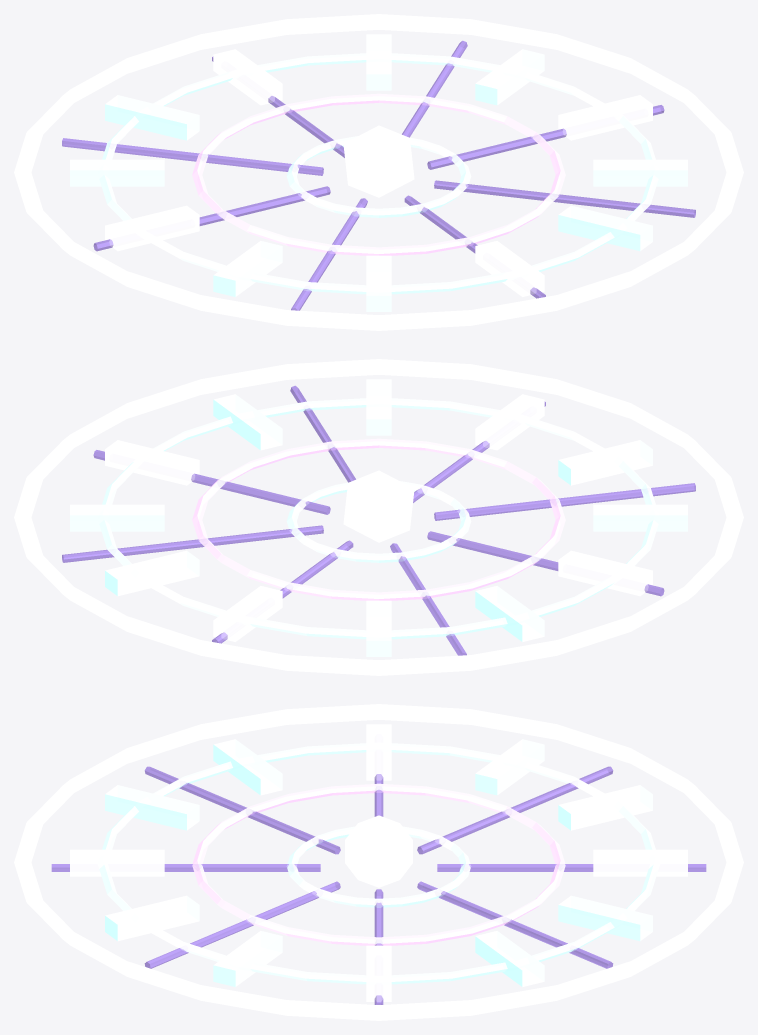
Rendered from ground_aoe.glb.
3 renders of one model, top to bottom at view 1: azimuth 30°, elevation 25°; view 2: azimuth 150°, elevation 25°; view 3: azimuth 270°, elevation 25°, orthographic.
Parts seen in each view (by area): view 1: GroundWarningRing_3, GroundWarningRing_2, GroundWarningRing_1, GroundFocus, GroundWarningRing_0, GroundRune_5, GroundRune_11, GroundRune_4, GroundRune_0, GroundRune_10, GroundRune_6, GroundRadial_3 (+13 smaller); view 2: GroundWarningRing_3, GroundWarningRing_2, GroundWarningRing_1, GroundFocus, GroundWarningRing_0, GroundRune_1, GroundRune_7, GroundRune_8, GroundRune_0, GroundRune_2, GroundRune_6, GroundRadial_5 (+13 smaller); view 3: GroundWarningRing_3, GroundWarningRing_2, GroundWarningRing_1, GroundFocus, GroundWarningRing_0, GroundRune_3, GroundRune_9, GroundRune_4, GroundRune_8, GroundRune_2, GroundRune_10, GroundRune_5 (+12 smaller).
Boxes of the visible parts, x1=… form: GroundWarningRing_3: x1=14, y1=14, x2=743, y2=330; GroundWarningRing_2: x1=99, y1=53, x2=658, y2=294; GroundWarningRing_1: x1=192, y1=93, x2=565, y2=255; GroundFocus: x1=343, y1=125, x2=414, y2=197; GroundWarningRing_0: x1=286, y1=136, x2=471, y2=217; GroundRune_5: x1=70, y1=159, x2=164, y2=186; GroundRune_11: x1=593, y1=159, x2=687, y2=186; GroundRune_4: x1=105, y1=95, x2=199, y2=140; GroundRune_0: x1=558, y1=95, x2=652, y2=140; GroundRune_10: x1=558, y1=205, x2=652, y2=251; GroundRune_6: x1=105, y1=205, x2=199, y2=251; GroundRadial_3: x1=62, y1=138, x2=323, y2=175; GroundWarningRing_3: x1=14, y1=359, x2=743, y2=675; GroundWarningRing_2: x1=99, y1=398, x2=658, y2=639; GroundWarningRing_1: x1=192, y1=438, x2=565, y2=600; GroundFocus: x1=343, y1=470, x2=414, y2=542; GroundWarningRing_0: x1=286, y1=481, x2=471, y2=562; GroundRune_1: x1=70, y1=504, x2=164, y2=531; GroundRune_7: x1=593, y1=504, x2=687, y2=531; GroundRune_8: x1=558, y1=440, x2=652, y2=485; GroundRune_0: x1=105, y1=440, x2=199, y2=485; GroundRune_2: x1=105, y1=550, x2=199, y2=596; GroundRune_6: x1=558, y1=550, x2=652, y2=596; GroundRadial_5: x1=434, y1=483, x2=695, y2=520; GroundWarningRing_3: x1=14, y1=704, x2=743, y2=1020; GroundWarningRing_2: x1=99, y1=743, x2=658, y2=984; GroundWarningRing_1: x1=192, y1=783, x2=565, y2=945; GroundFocus: x1=345, y1=815, x2=412, y2=887; GroundWarningRing_0: x1=287, y1=826, x2=470, y2=907; GroundRune_3: x1=593, y1=849, x2=687, y2=876; GroundRune_9: x1=70, y1=849, x2=164, y2=876; GroundRune_4: x1=558, y1=785, x2=652, y2=830; GroundRune_8: x1=105, y1=785, x2=199, y2=830; GroundRune_2: x1=558, y1=895, x2=652, y2=941; GroundRune_10: x1=105, y1=895, x2=199, y2=941; GroundRune_5: x1=475, y1=739, x2=544, y2=795.
Bounding box in the file's own units: 1.93 × 0.2112 × 1.93.
